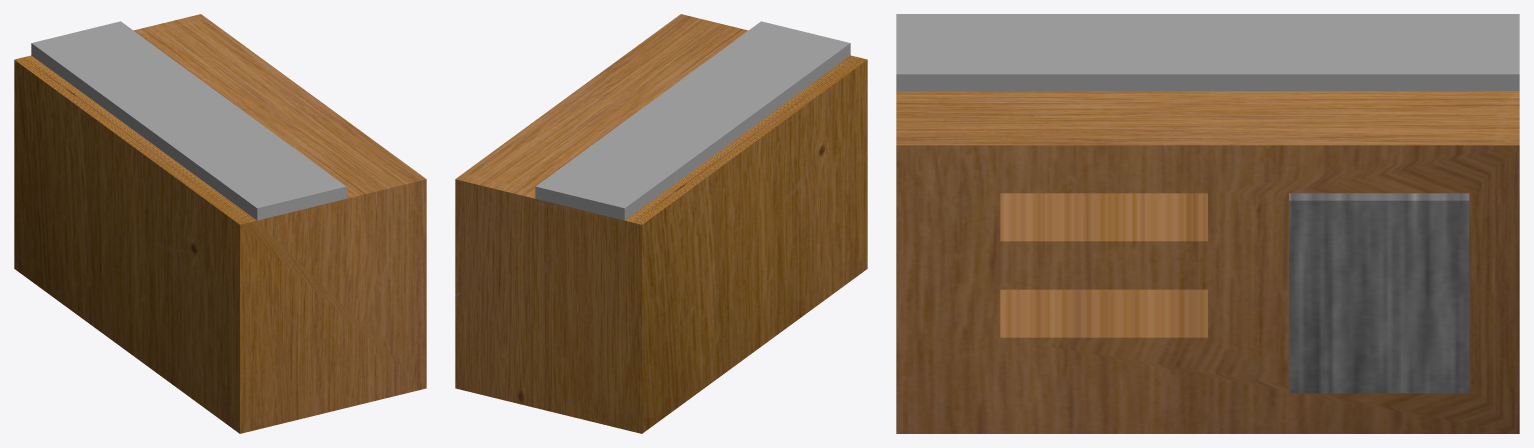
Rendered from Balcao locao.fbx.
3 renders of one model, left to right at view 1: azimuth 30°, elevation 25°; view 2: azimuth 150°, elevation 25°; view 3: azimuth 270°, elevation 25°, orthographic. The views are drawn at different scales.
Visible parts, largest first — view 1: pCube1; view 2: pCube1; view 3: pCube1.
Part boxes in pixels (x1=…): pCube1: x1=14, y1=14, x2=426, y2=433; pCube1: x1=455, y1=14, x2=867, y2=433; pCube1: x1=896, y1=14, x2=1519, y2=433.
Size of the model in its own units: 1.51 by 1.62 by 2.99.
